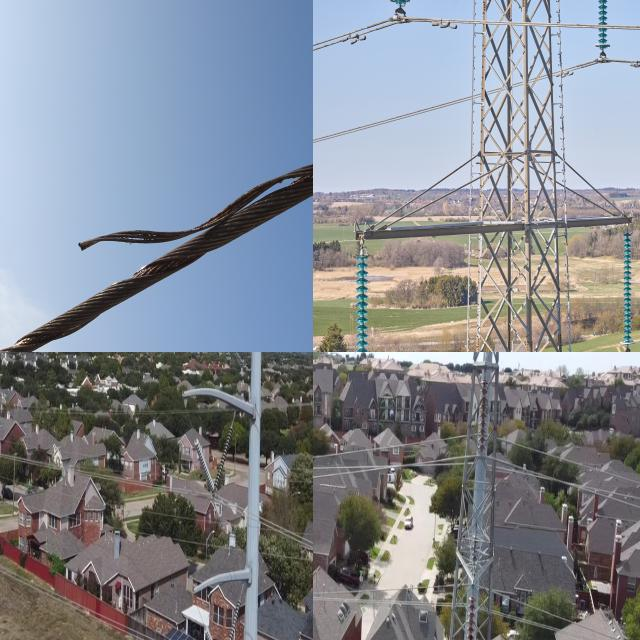杆塔: (469, 0, 575, 352), (180, 352, 273, 640), (443, 352, 509, 640)
正常绝缘子: (349, 252, 380, 352), (620, 230, 640, 352), (212, 426, 235, 495), (594, 0, 620, 56), (194, 437, 217, 495), (476, 367, 491, 452), (462, 584, 477, 640), (227, 598, 242, 640), (204, 626, 213, 640)
电缆破损: (62, 147, 313, 352)
